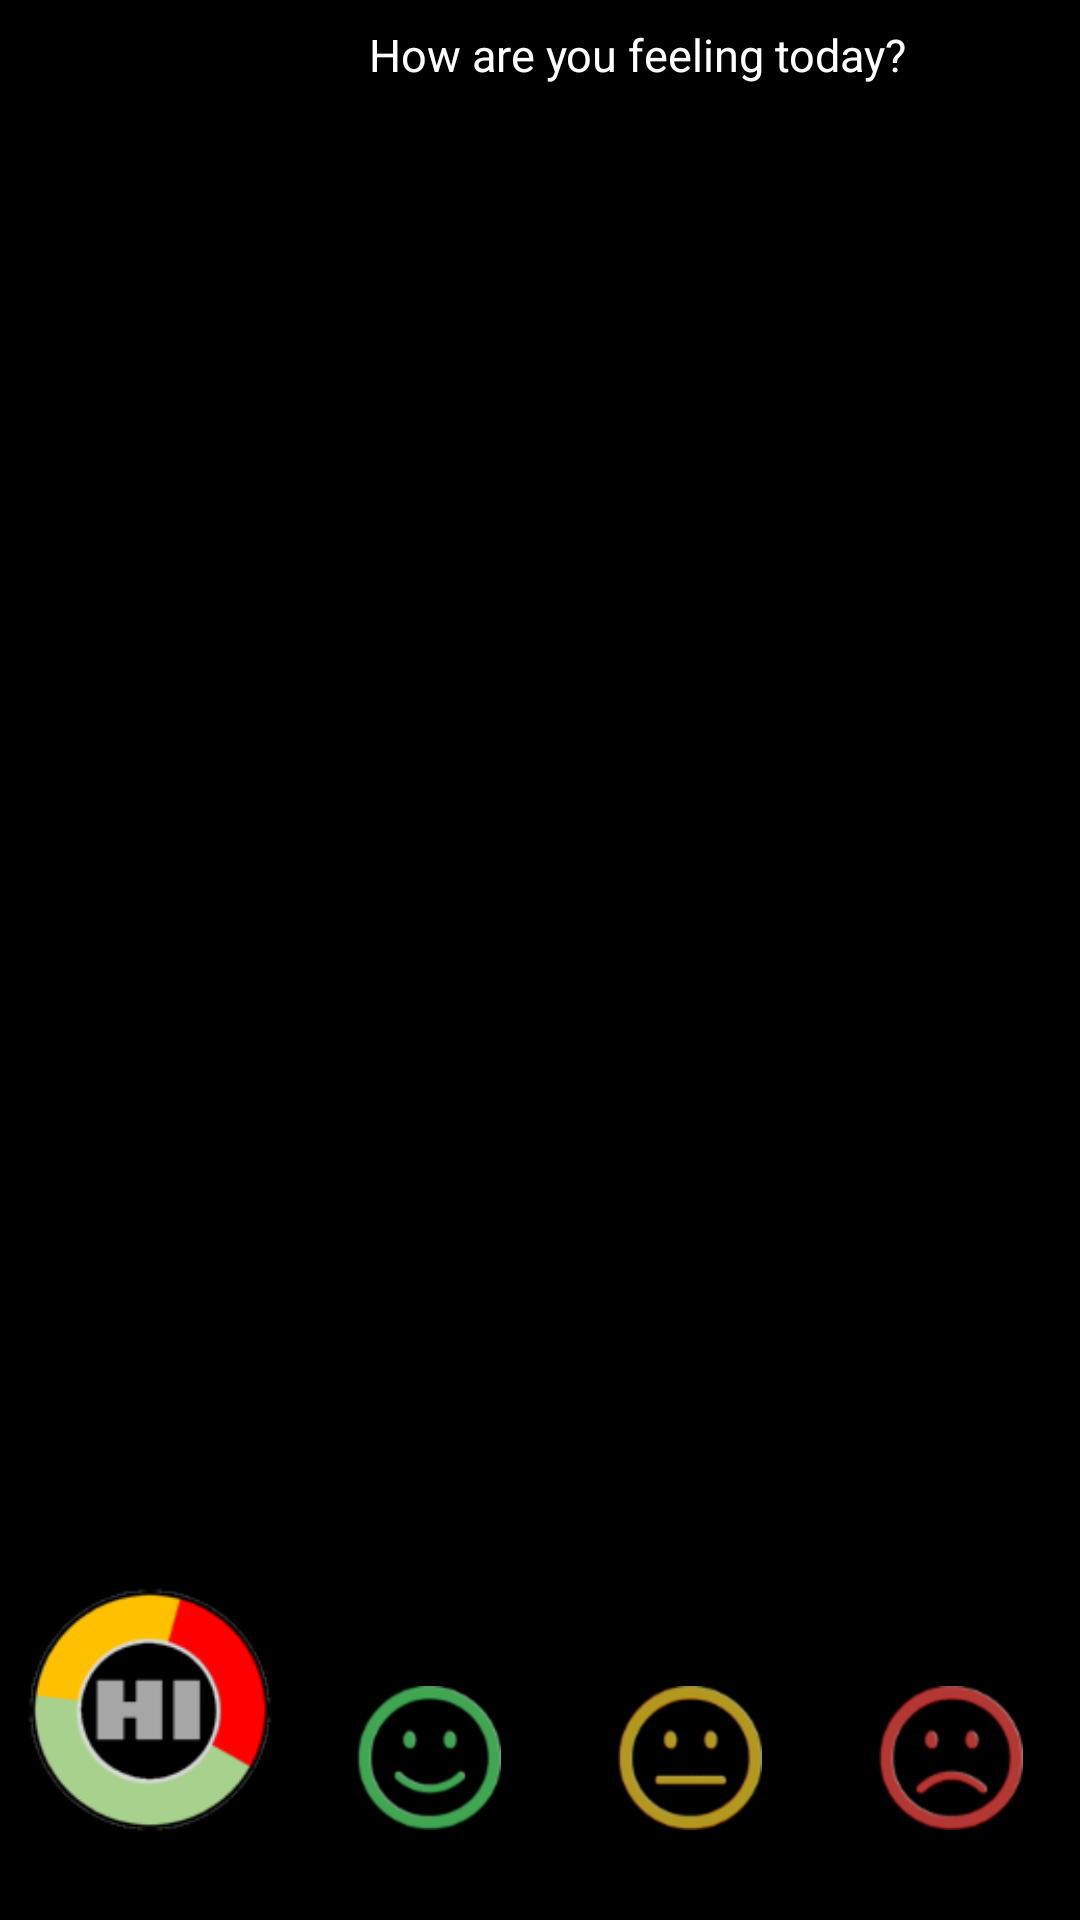

Icon bounding boxes for this 1080*1920 phone screenshot, format (x1, y1, x2, y2):
happy: (357, 1686, 501, 1830)
neutral: (618, 1686, 762, 1830)
sad: (879, 1686, 1023, 1830)
